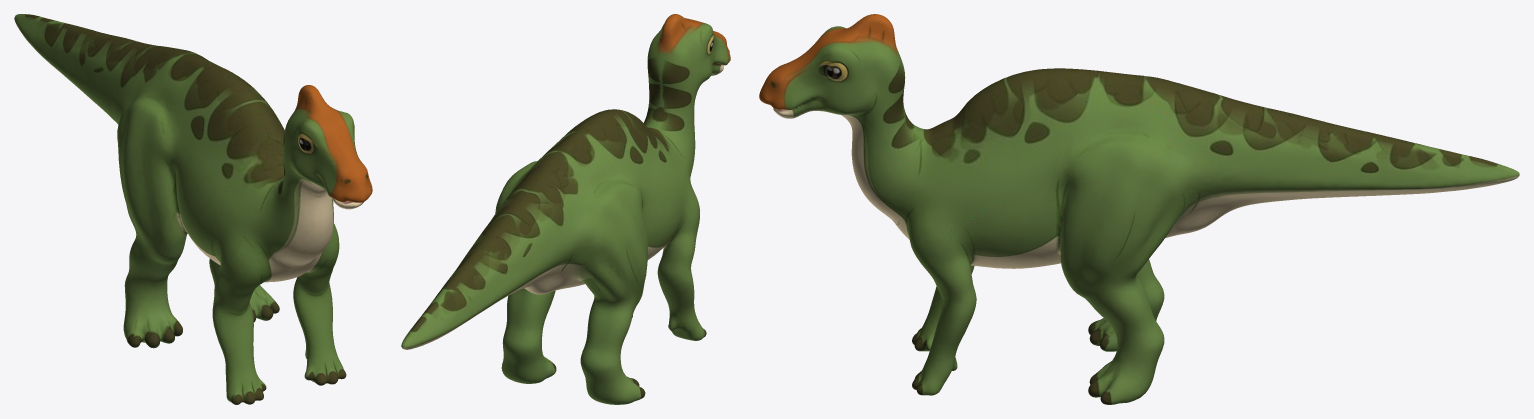
Rendered from H-hadrosauro.glb.
The picture shows the model from 3 angles, left to right: view 1: azimuth 30°, elevation 25°; view 2: azimuth 150°, elevation 25°; view 3: azimuth 270°, elevation 25°; orthographic projection. The views are drawn at different scales.
Size of the model in its own units: 0.4688 by 0.9779 by 1.9.
Materials: 1 (1 with a texture image).
